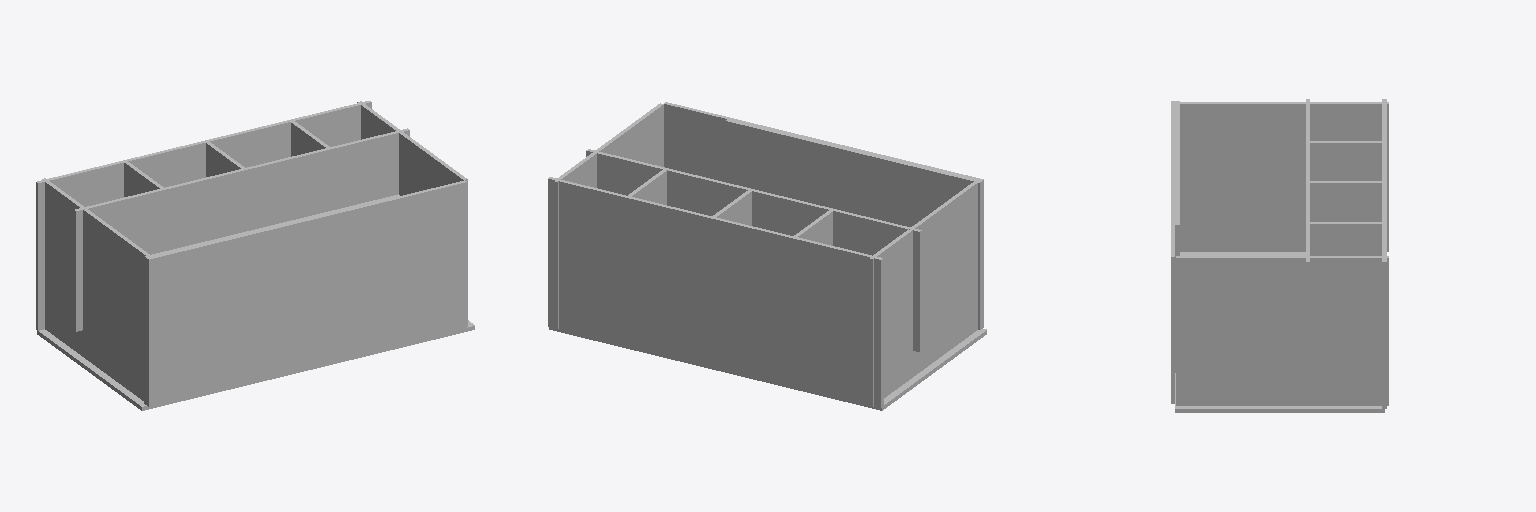
The model's file is bathroom.obj.
3 views of the same model, side by side, from view 1: azimuth 30°, elevation 25°; view 2: azimuth 150°, elevation 25°; view 3: azimuth 270°, elevation 25° (orthographic).
Visible parts, largest first — view 1: polySurface39; view 2: polySurface39; view 3: polySurface39.
Boxes of the visible parts, x1=… form: polySurface39: x1=36, y1=101, x2=474, y2=410; polySurface39: x1=548, y1=102, x2=986, y2=410; polySurface39: x1=1171, y1=99, x2=1388, y2=412.
Size of the model in its own units: 23.73 by 10.31 by 13.48.